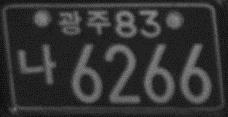2: (104, 43, 142, 105)
3: (138, 8, 162, 39)
6: (178, 39, 214, 105), (142, 41, 175, 104), (72, 43, 104, 105)
8: (114, 8, 137, 40)
광주_O: (58, 8, 110, 38)
나: (17, 42, 58, 86)
